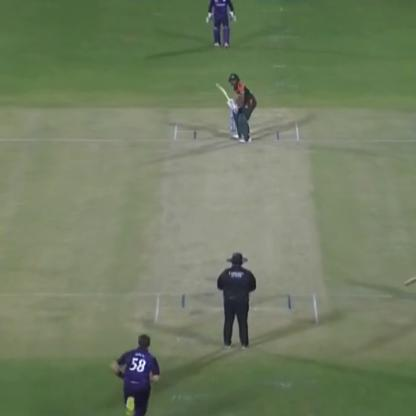bat: (210, 78, 235, 114)
pitch: (156, 121, 309, 332)
